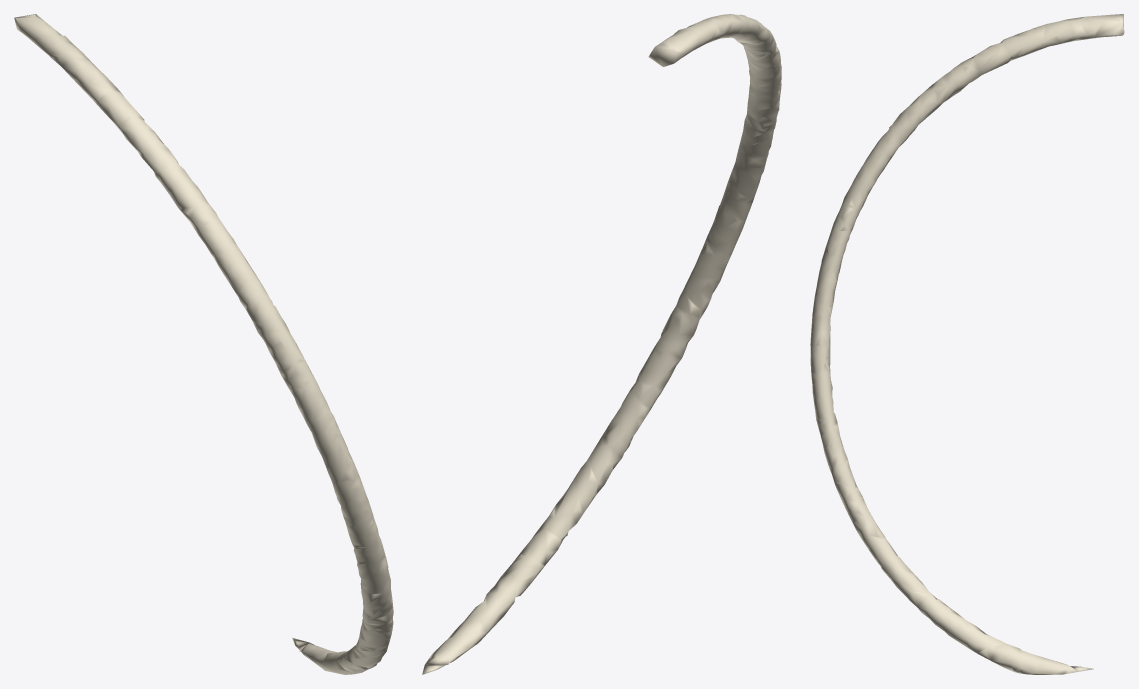
File: rib_9_l.glb
The picture shows the model from 3 angles, left to right: view 1: azimuth 30°, elevation 25°; view 2: azimuth 150°, elevation 25°; view 3: azimuth 270°, elevation 25°; orthographic projection. The views are drawn at different scales.
Visible parts, largest first — view 1: geometry_0; view 2: geometry_0; view 3: geometry_0.
Part boxes in pixels (x1,y1,x2,y2): geometry_0: [14, 14, 393, 674]; geometry_0: [422, 14, 781, 674]; geometry_0: [810, 14, 1124, 674].
Size of the model in its own units: 0.3434 by 0.8009 by 0.4127.
